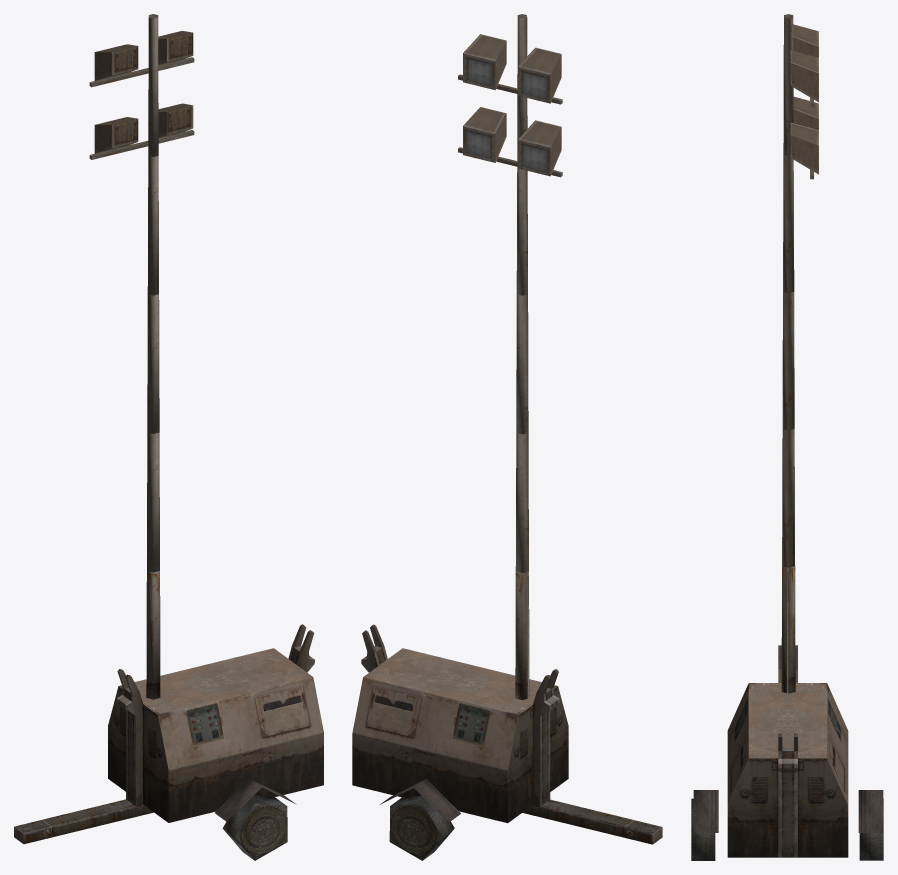
File: Prop_Tzd_lod2.glb
The picture shows the model from 3 angles, left to right: view 1: azimuth 30°, elevation 25°; view 2: azimuth 150°, elevation 25°; view 3: azimuth 270°, elevation 25°; orthographic projection.
Parts seen in each view (by area): view 1: xiutz_tzd_lod2_0; view 2: xiutz_tzd_lod2_0; view 3: xiutz_tzd_lod2_0.
Boxes of the visible parts, x1,y1,x2,y2 form: xiutz_tzd_lod2_0: [14, 14, 323, 860]; xiutz_tzd_lod2_0: [352, 14, 662, 860]; xiutz_tzd_lod2_0: [691, 14, 883, 860].
Size of the model in its own units: 4.25 by 11.45 by 2.46.
2 materials, 2 textured.
